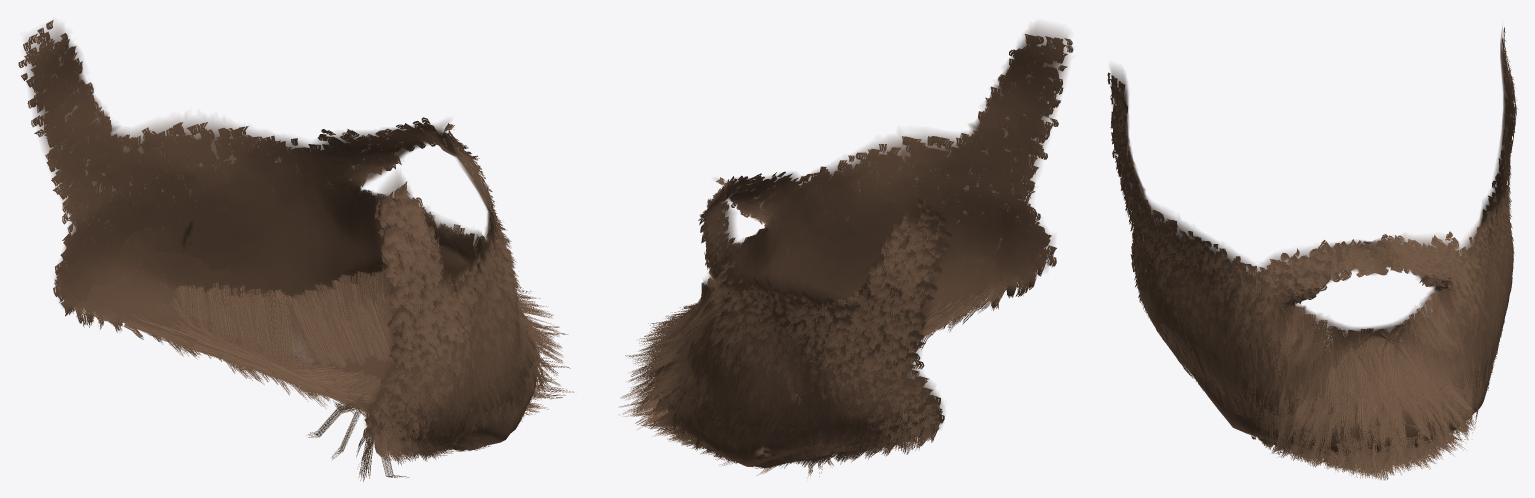
The model's file is beard-m1-tapered.glb.
3 renders of one model, left to right at view 1: azimuth 30°, elevation 25°; view 2: azimuth 150°, elevation 25°; view 3: azimuth 270°, elevation 25°, orthographic. The views are drawn at different scales.
Visible parts, largest first — view 1: Beard_m1_tapered_root, Beard_m1_tapered_cards; view 2: Beard_m1_tapered_cards, Beard_m1_tapered_root; view 3: Beard_m1_tapered_cards, Beard_m1_tapered_root.
Boxes of the visible parts, x1=… form: Beard_m1_tapered_root: x1=26, y1=23, x2=537, y2=446; Beard_m1_tapered_cards: x1=18, y1=20, x2=573, y2=481; Beard_m1_tapered_cards: x1=619, y1=34, x2=1073, y2=478; Beard_m1_tapered_root: x1=656, y1=24, x2=1069, y2=466; Beard_m1_tapered_cards: x1=1107, y1=27, x2=1518, y2=480; Beard_m1_tapered_root: x1=1110, y1=27, x2=1513, y2=455.
Size of the model in its own units: 0.1632 by 0.1484 by 0.1574.
Materials: 2 (1 with a texture image).
